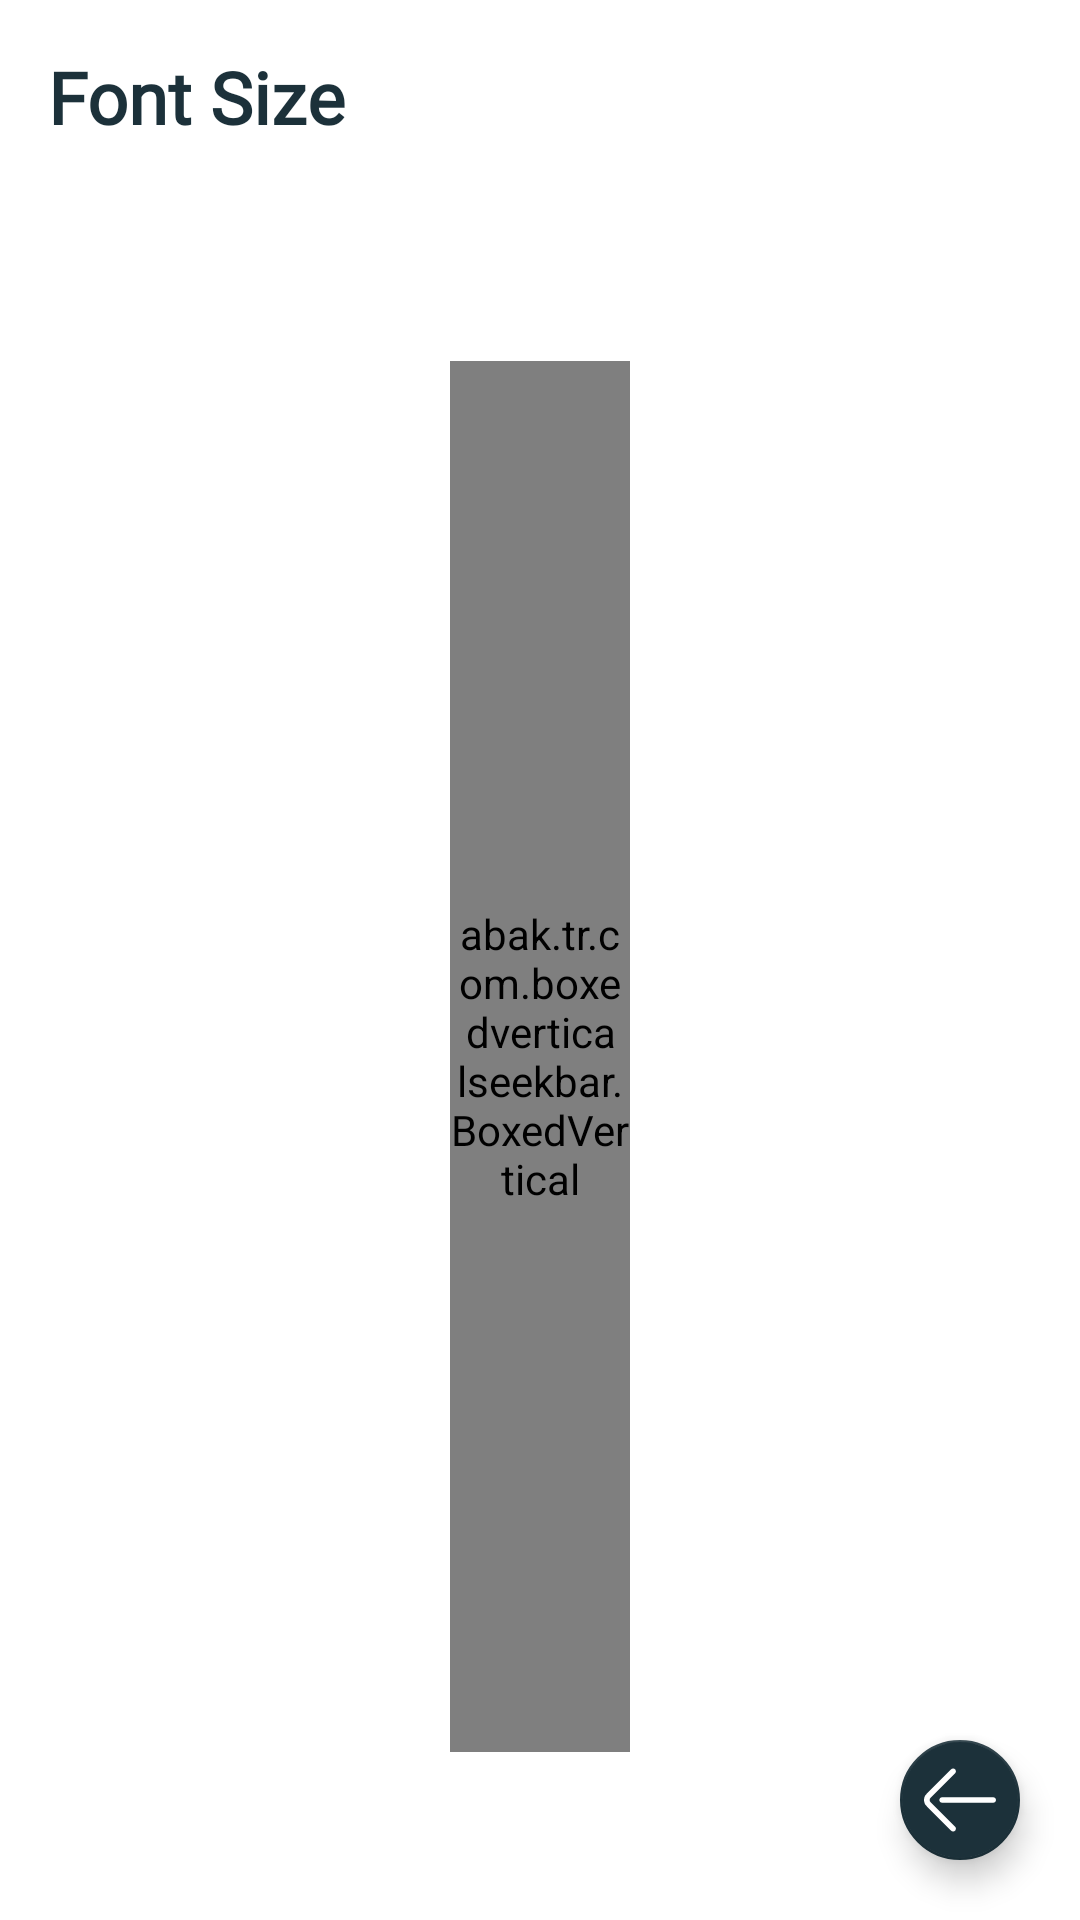

Locate icon controls on the screen. Image size 1080px×1920px, boxes as [x1,y1,x2,y2].
arrow back: [900,1740,1022,1872]
